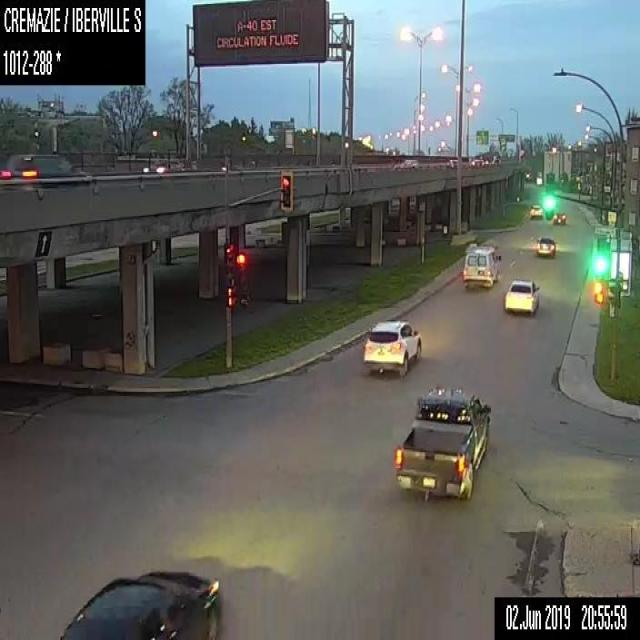vehicle: (392, 382, 491, 502), (56, 566, 221, 638), (362, 317, 422, 375), (0, 151, 88, 176), (461, 243, 500, 288), (503, 276, 539, 314), (141, 156, 182, 173), (536, 235, 556, 258), (398, 154, 418, 167), (529, 203, 543, 218), (445, 158, 466, 167), (552, 211, 566, 224), (470, 158, 484, 166)
